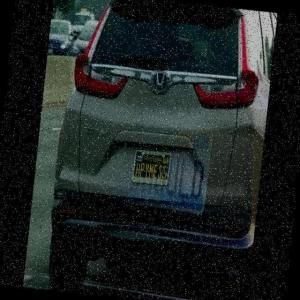Plate: (131, 149, 171, 185)
